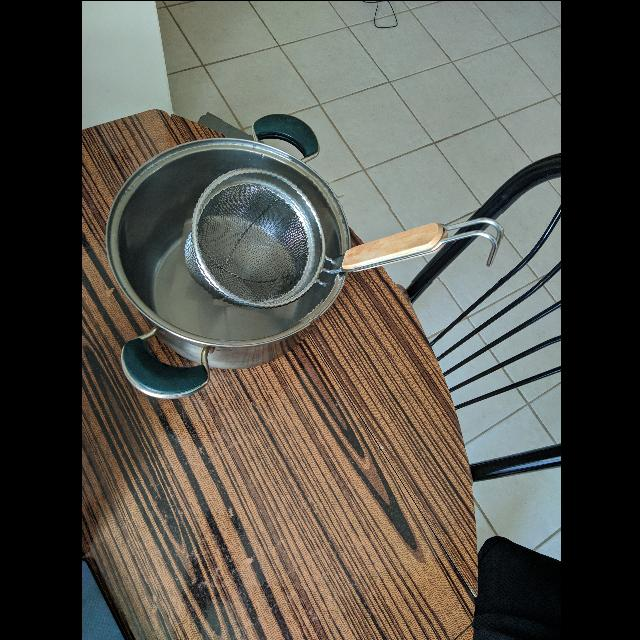Handle: (321, 207, 501, 281)
Strainer: (186, 170, 328, 310)
